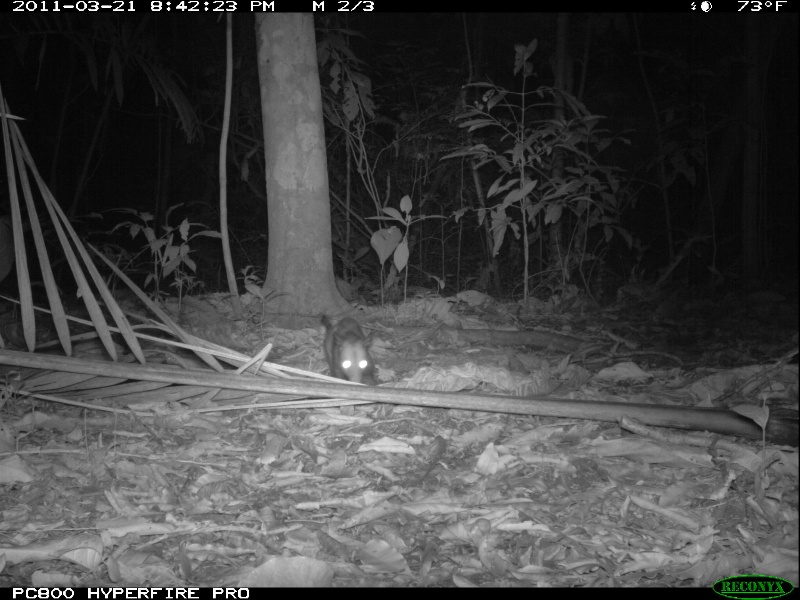opossum: (314, 304, 383, 392)
